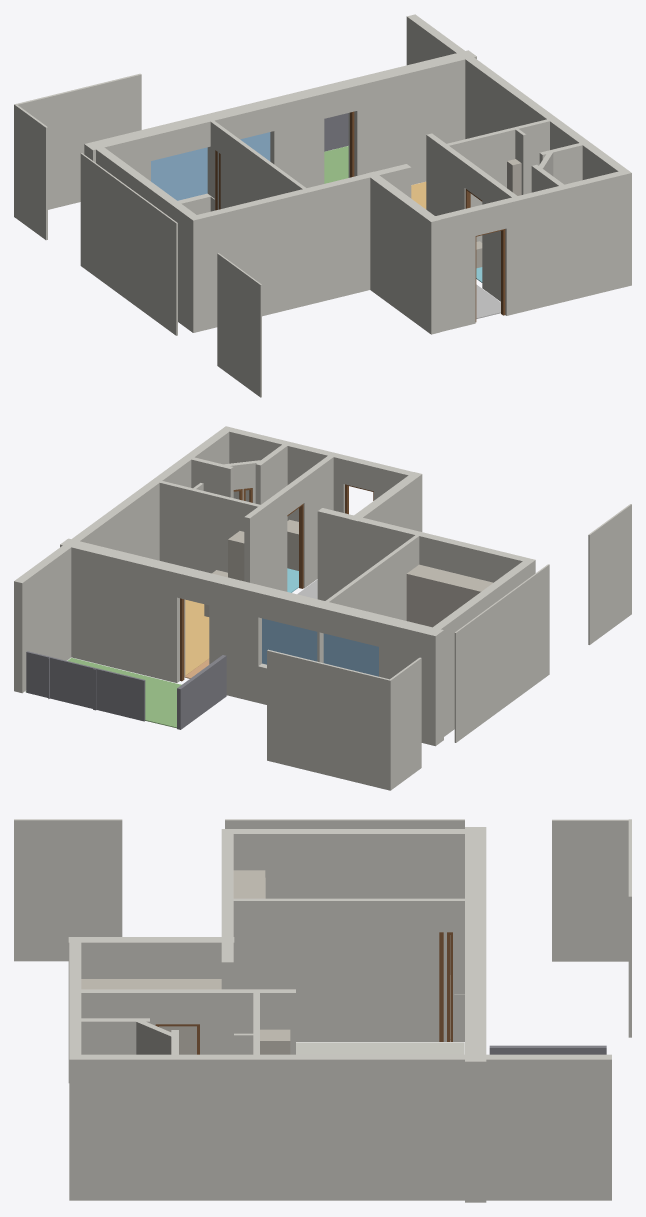
3 renders of one model, top to bottom at view 1: azimuth 30°, elevation 25°; view 2: azimuth 150°, elevation 25°; view 3: azimuth 270°, elevation 25°, orthographic. The views are drawn at different scales.
Visible parts, largest first — view 1: walls, window_3, railings, floor_7_Outdoor, door_0, floor_4_Entry; view 2: walls, railings, furniture_1_closet, floor_7_Outdoor, window_2, window_3, floor_3_Kitchen, furniture_0_closet, furniture_7_appliance; view 3: walls, floor_1_Undefined, furniture_3_closet, railings, furniture_1_closet, furniture_0_closet, door_8, door_7.
Boxes of the visible parts, x1,y1,x2,y2 form: walls: (14,14,631,397); window_3: (151,147,207,200); railings: (324,113,348,151); floor_7_Outdoor: (324,146,348,183); door_0: (475,229,505,321); floor_4_Entry: (476,284,500,318); walls: (14,426,631,790); railings: (26,651,226,729); furniture_1_closet: (406,564,493,627); floor_7_Outdoor: (25,658,181,728); window_2: (262,618,317,664); window_3: (323,633,378,676); floor_3_Kitchen: (185,599,209,675); furniture_0_closet: (228,531,244,581); furniture_7_appliance: (287,519,298,570); walls: (14,819,631,1202); floor_1_Undefined: (296,1042,464,1054); furniture_3_closet: (81,979,221,1054); railings: (489,1045,606,1054); furniture_1_closet: (233,870,265,898); furniture_0_closet: (260,1029,290,1054); door_8: (447,932,452,1041); door_7: (439,932,443,1041).
Size of the model in its own units: 9.96 by 2.72 by 10.73.
